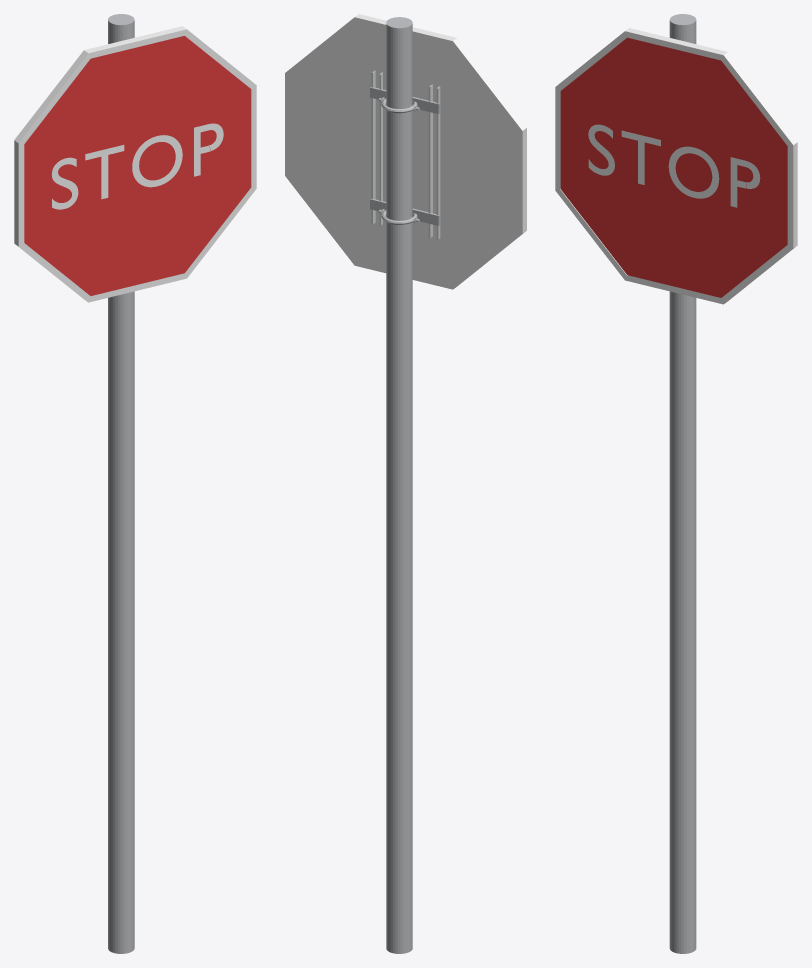
3 views of the same model, side by side, from view 1: azimuth 30°, elevation 25°; view 2: azimuth 150°, elevation 25°; view 3: azimuth 330°, elevation 25° (orthographic).
Parts seen in each view (by area): view 1: AB4; view 2: AB4; view 3: AB4.
Part boxes in pixels (<box>): AB4: <box>14,14,256,953</box>; AB4: <box>285,14,526,953</box>; AB4: <box>555,14,797,953</box>.
Bounding box in the file's own units: 0.6227 × 2.32 × 0.098.
